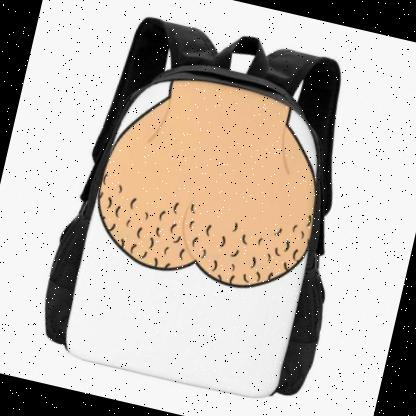bag: (28, 0, 387, 415)
